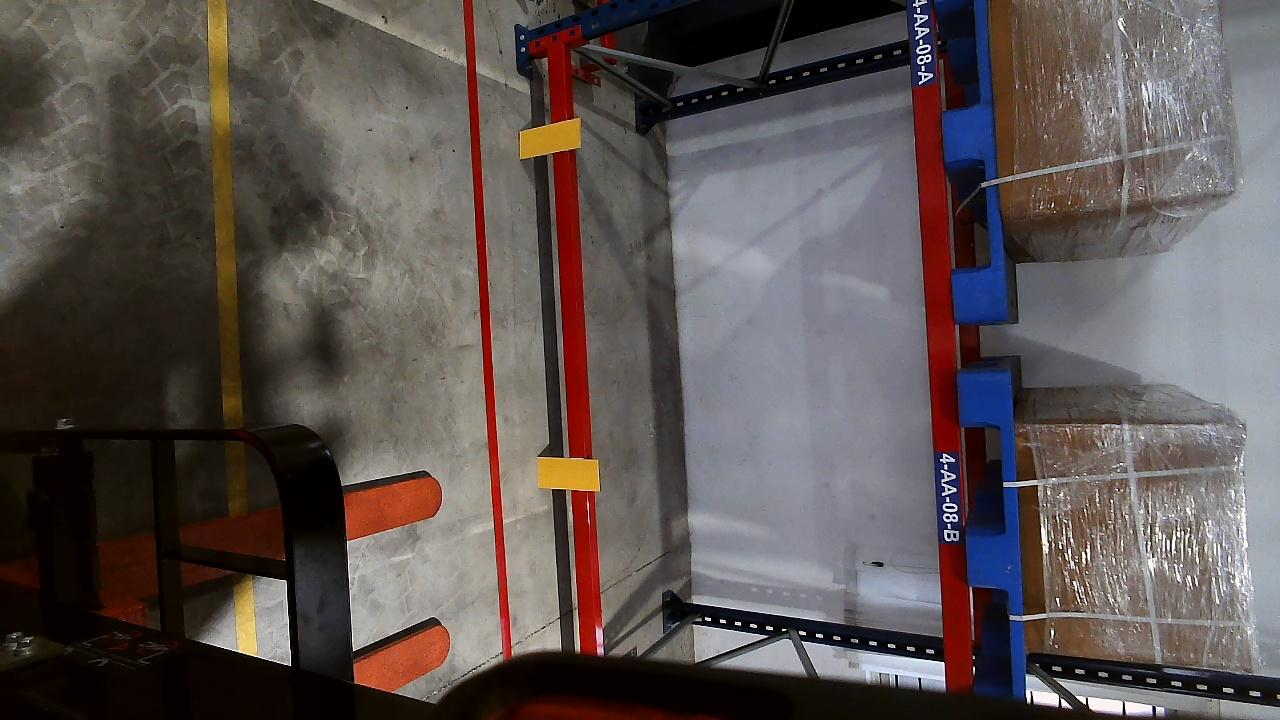h_rack: (900, 4, 976, 686), (547, 57, 594, 659)
orange_strip: (518, 119, 582, 159), (536, 456, 600, 490)
red_line: (453, 0, 523, 654)
small_pallet: (955, 372, 1030, 680), (943, 0, 1011, 318)
yellow_line: (205, 0, 246, 426)
